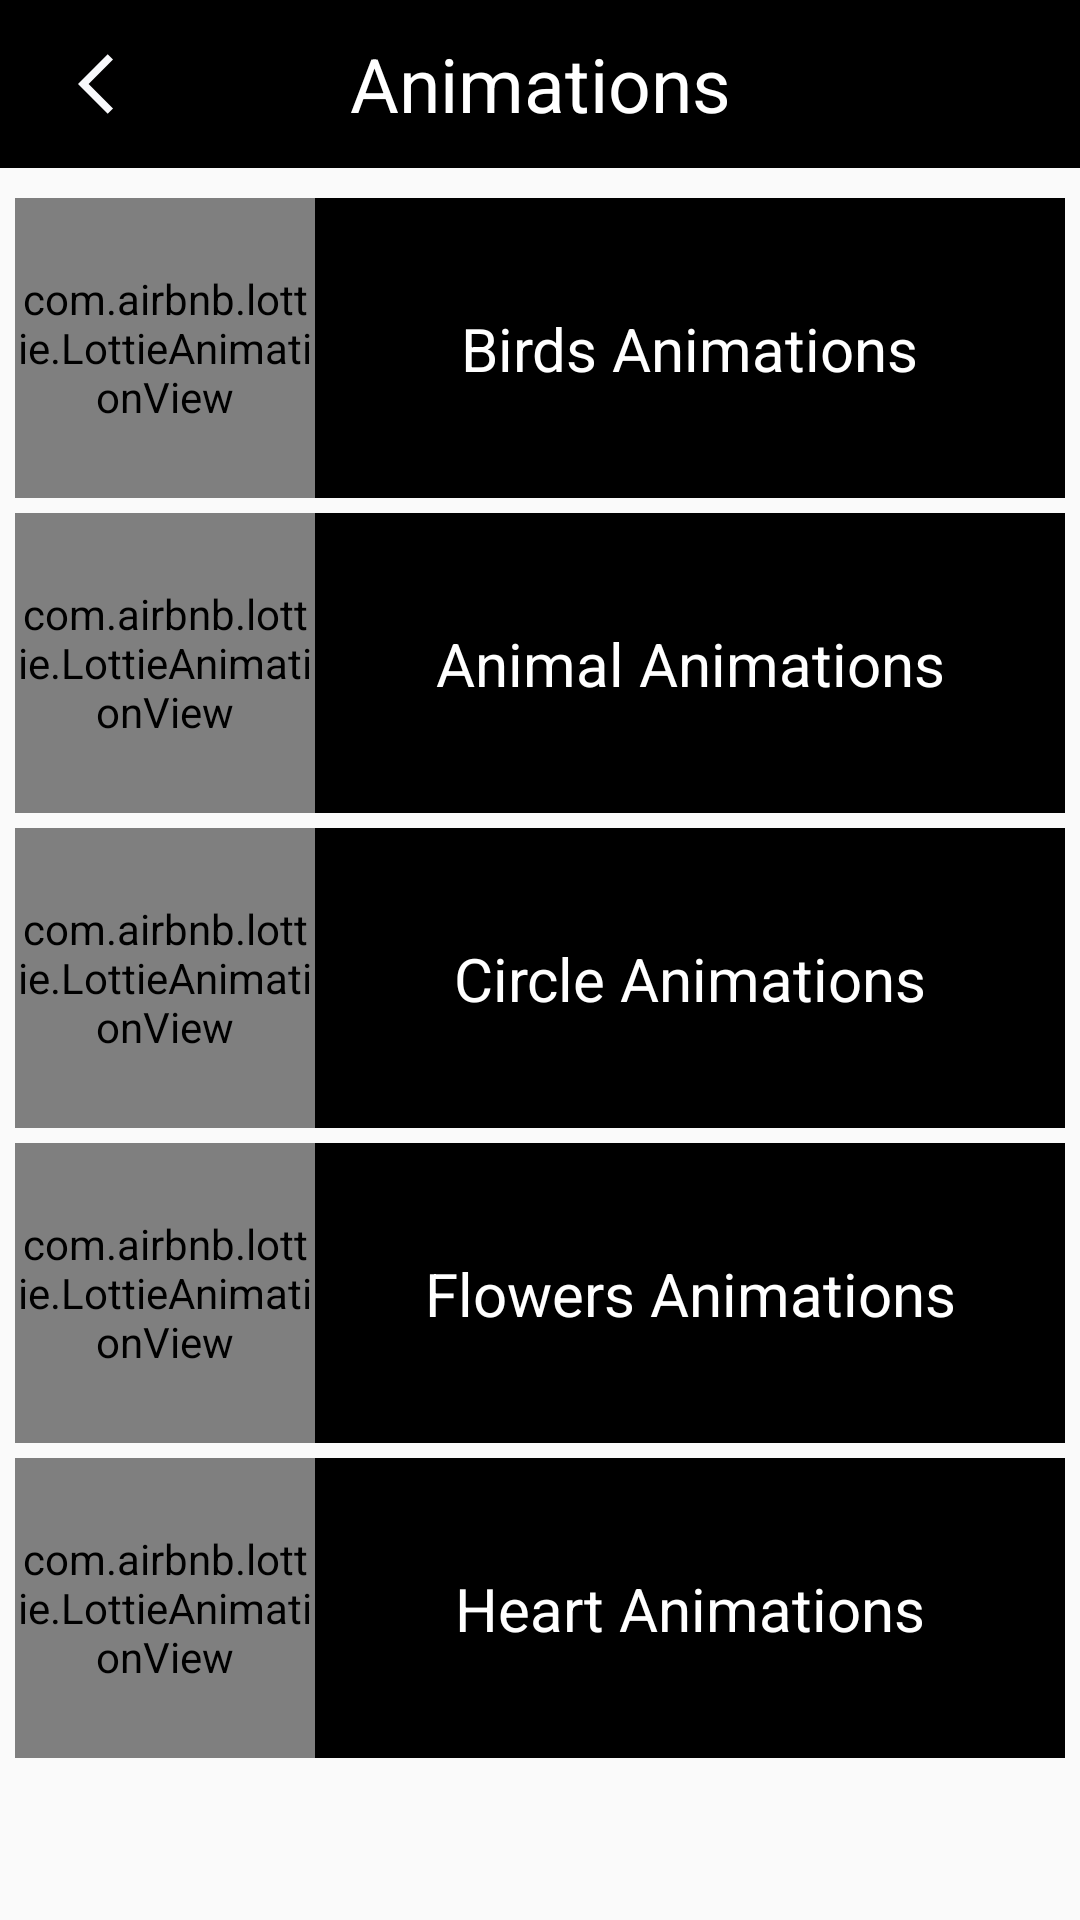

Screen size 1080w x 1920h. Icon name, then its box in pixels as (x1, y1, x2, y2):
back arrow: (78, 54, 113, 114)
